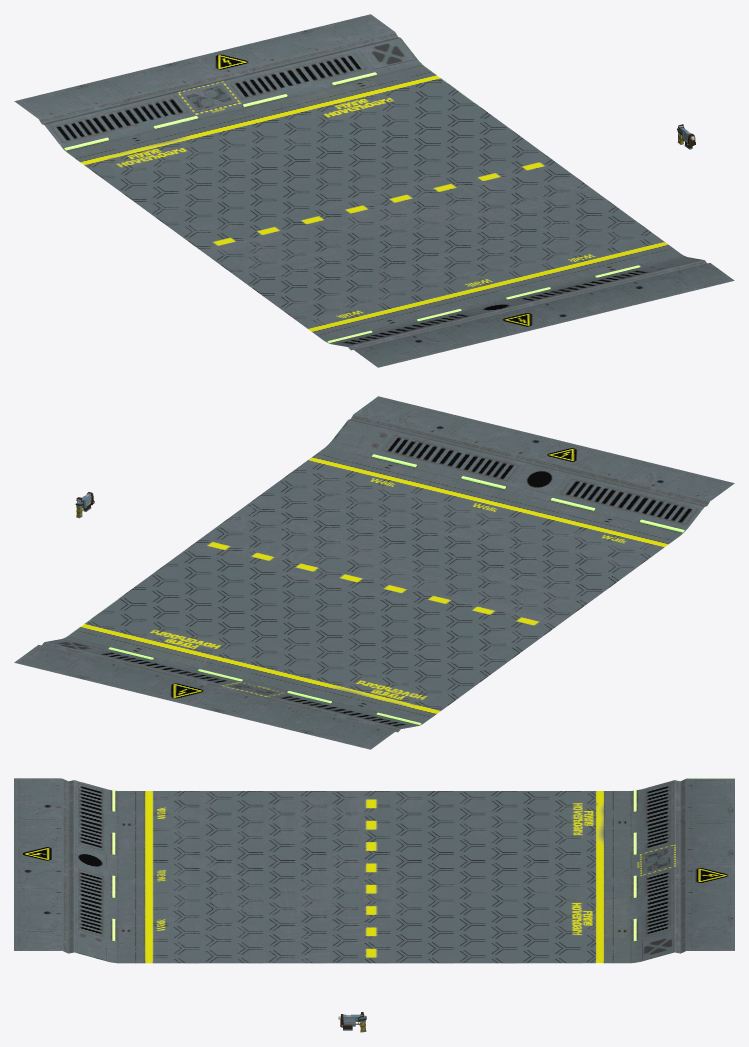
The model's file is models.glb.
The picture shows the model from 3 angles, top to bottom: view 1: azimuth 30°, elevation 25°; view 2: azimuth 150°, elevation 25°; view 3: azimuth 270°, elevation 25°; orthographic projection.
Parts seen in each view (by area): view 1: Road; view 2: Road; view 3: Road.
Part boxes in pixels (x1,y1,x2,y2): Road: (14,14,734,367); Road: (14,396,734,749); Road: (14,778,734,963).
Size of the model in its own units: 13.55 by 0.5859 by 17.67.
5 materials, 1 textured.
